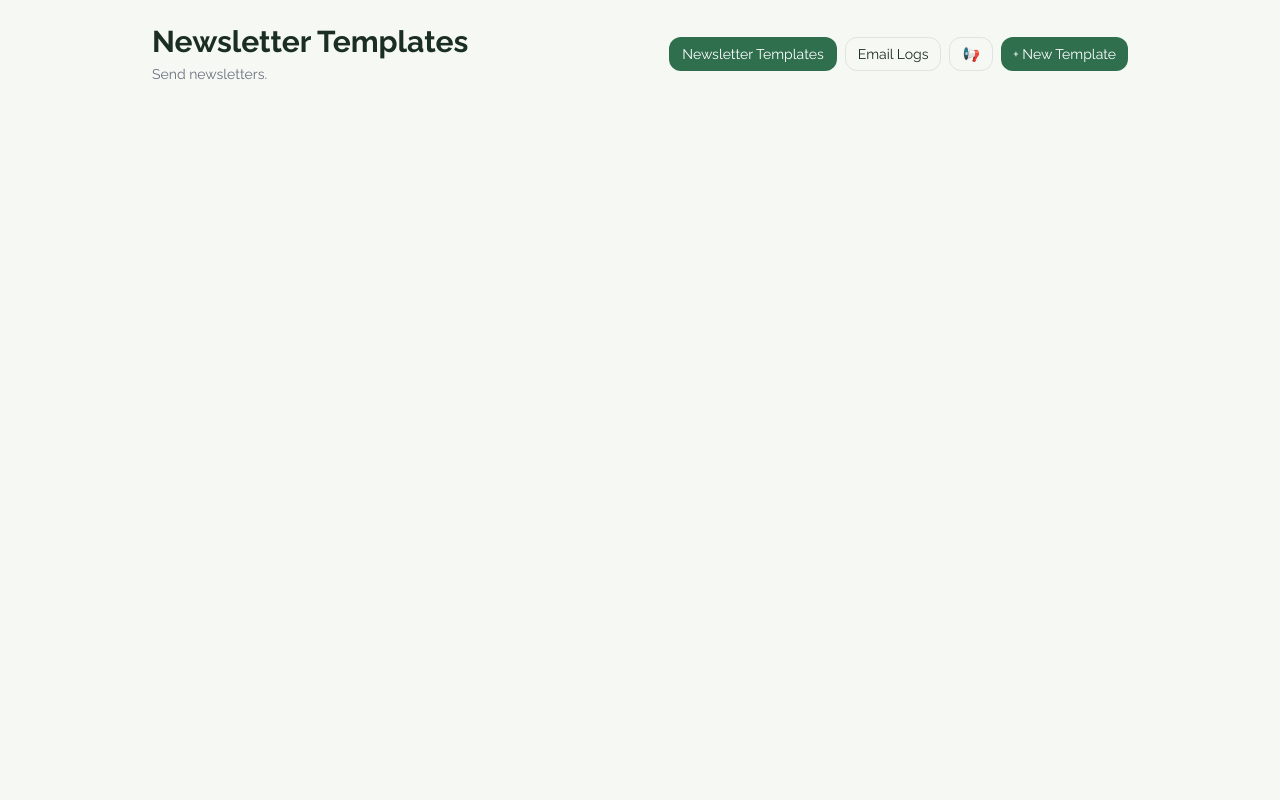
it: NewsletterPage (template UI) › shows upload and URL tabs for image content block
Step 1. Click the button with test id "new-template-btn" → (1064, 54), box [1001,37,1128,71]
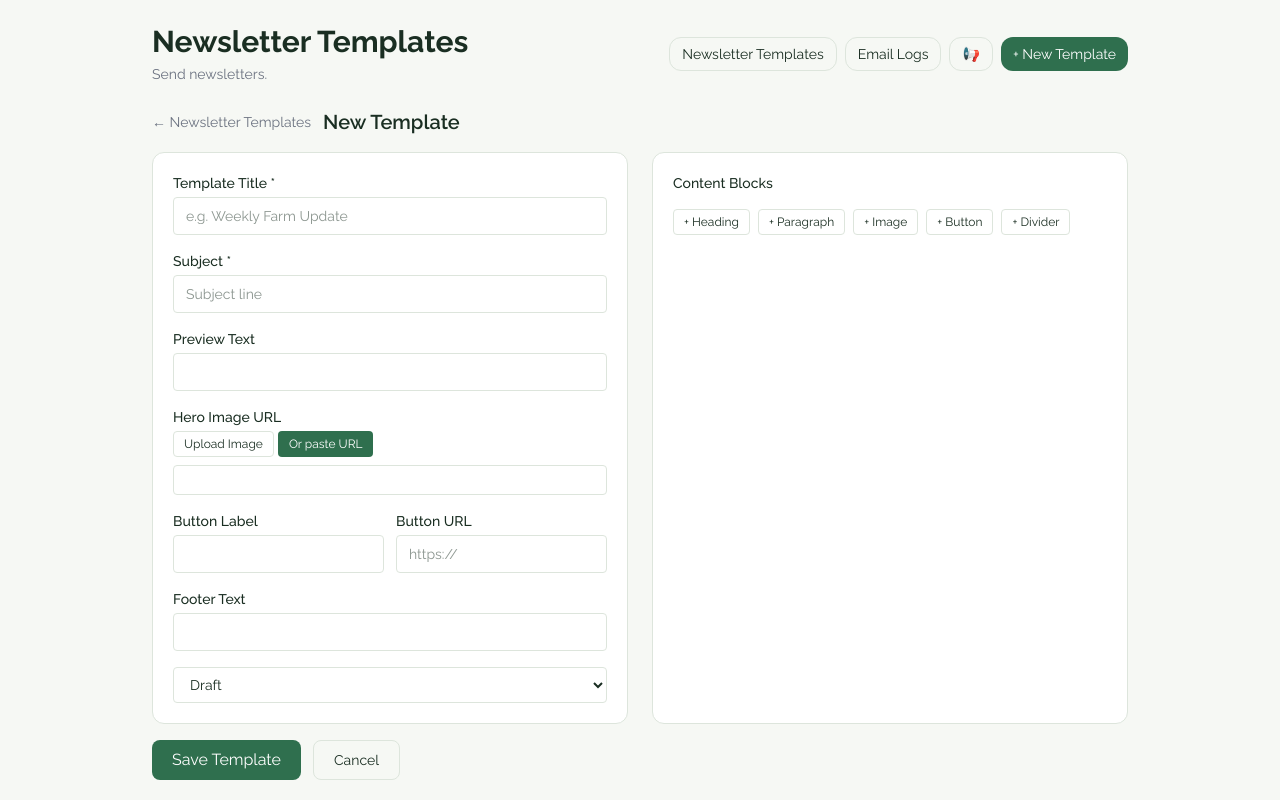
expect the button with test id "add-block-image" is shown: met
Step 2. Click the button with test id "add-block-image" → (886, 222), box [853,209,918,235]
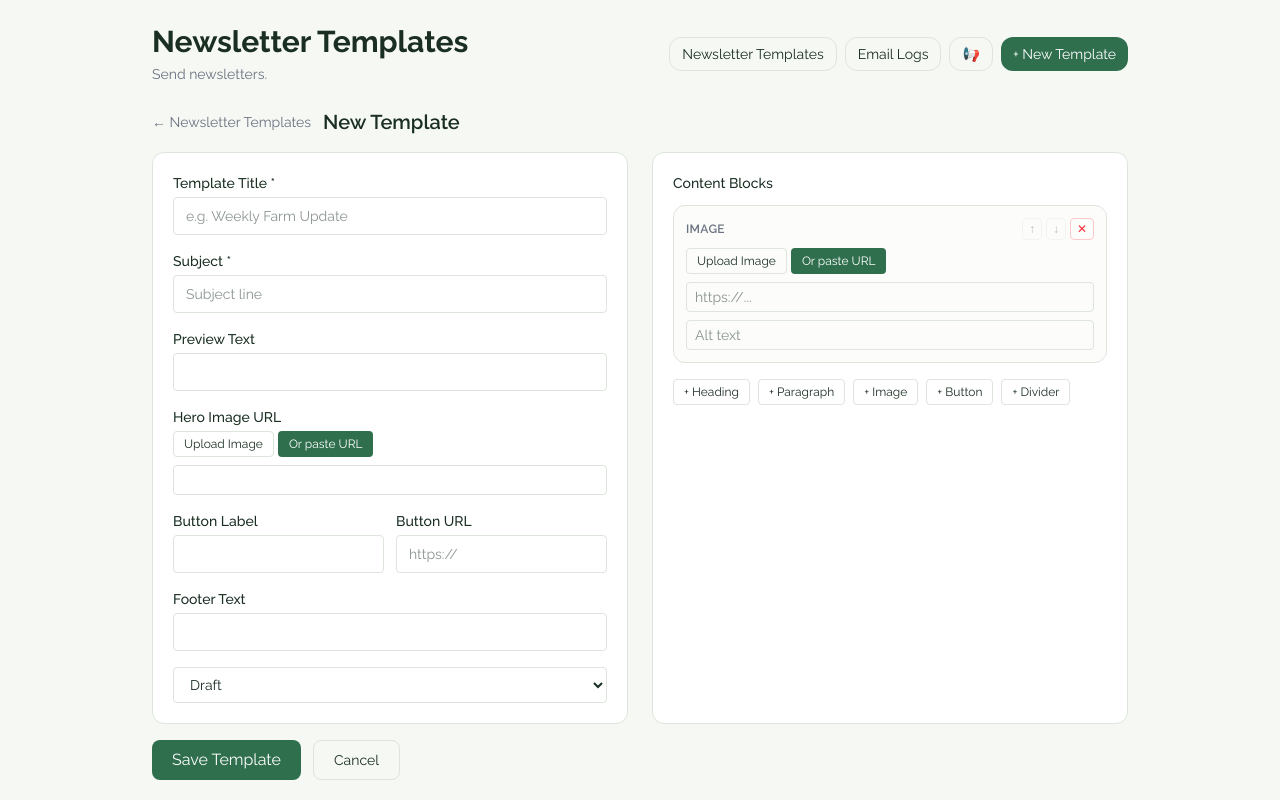
expect the button with test id "block-img-0-upload-tab" is shown: met, box [686,248,787,274]
expect the button with test id "block-img-0-url-tab" is shown: met, box [791,248,886,274]
